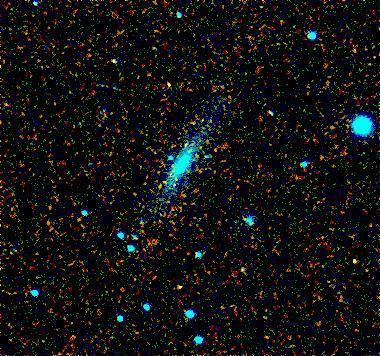star: (138, 38, 168, 68)
